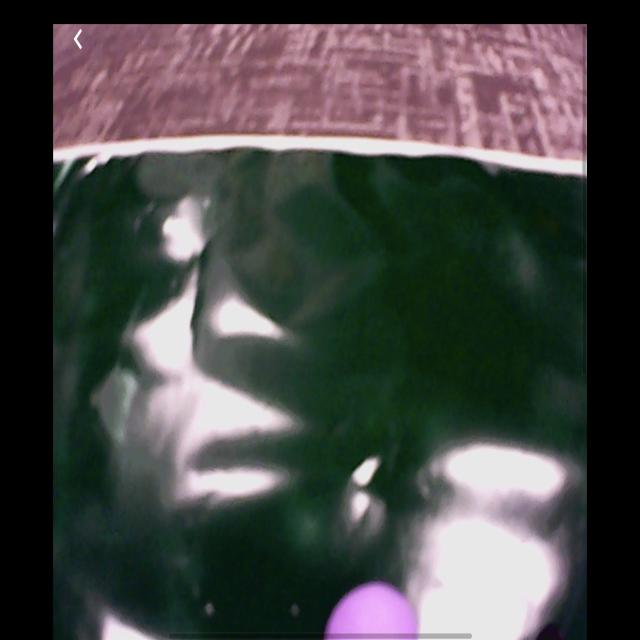ball: (324, 585, 422, 640)
